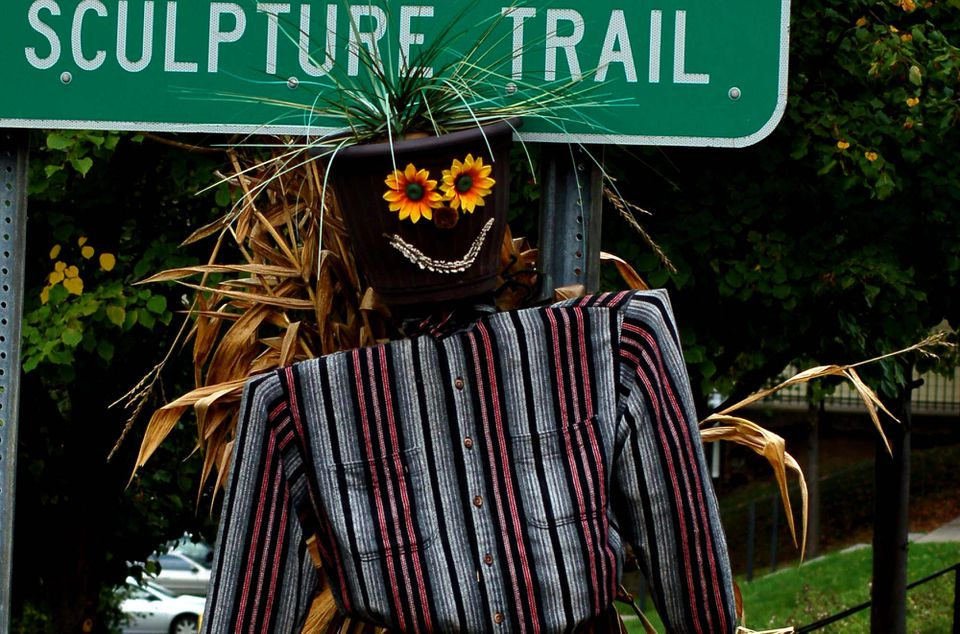person-like: (189, 82, 785, 634)
